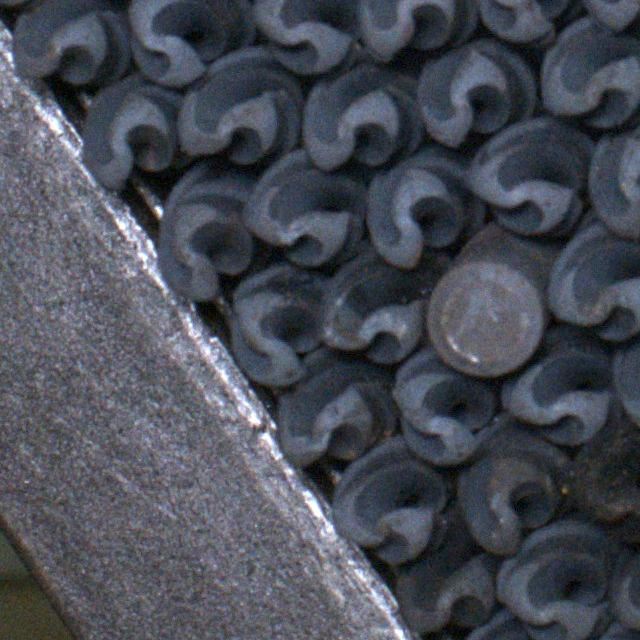tool: (425, 260, 541, 374)
tool_b: (495, 516, 627, 640), (466, 115, 596, 238), (174, 46, 300, 172), (332, 436, 454, 563), (157, 160, 266, 301), (364, 147, 484, 270), (241, 149, 364, 267), (500, 328, 622, 444), (456, 432, 568, 556), (302, 59, 424, 172), (316, 240, 426, 364), (545, 208, 640, 342), (276, 362, 396, 467), (419, 37, 537, 143), (391, 346, 495, 466), (81, 74, 186, 190), (232, 265, 328, 383), (395, 525, 499, 631), (542, 17, 640, 128), (127, 0, 251, 85), (11, 0, 130, 85), (569, 422, 640, 542), (254, 0, 360, 73), (355, 0, 479, 60), (587, 121, 640, 240)
